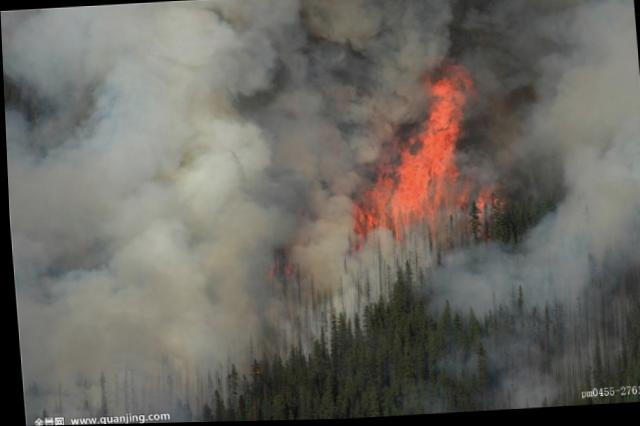fire: (375, 144, 458, 212), (419, 106, 461, 144), (426, 71, 469, 108), (349, 198, 377, 231)
